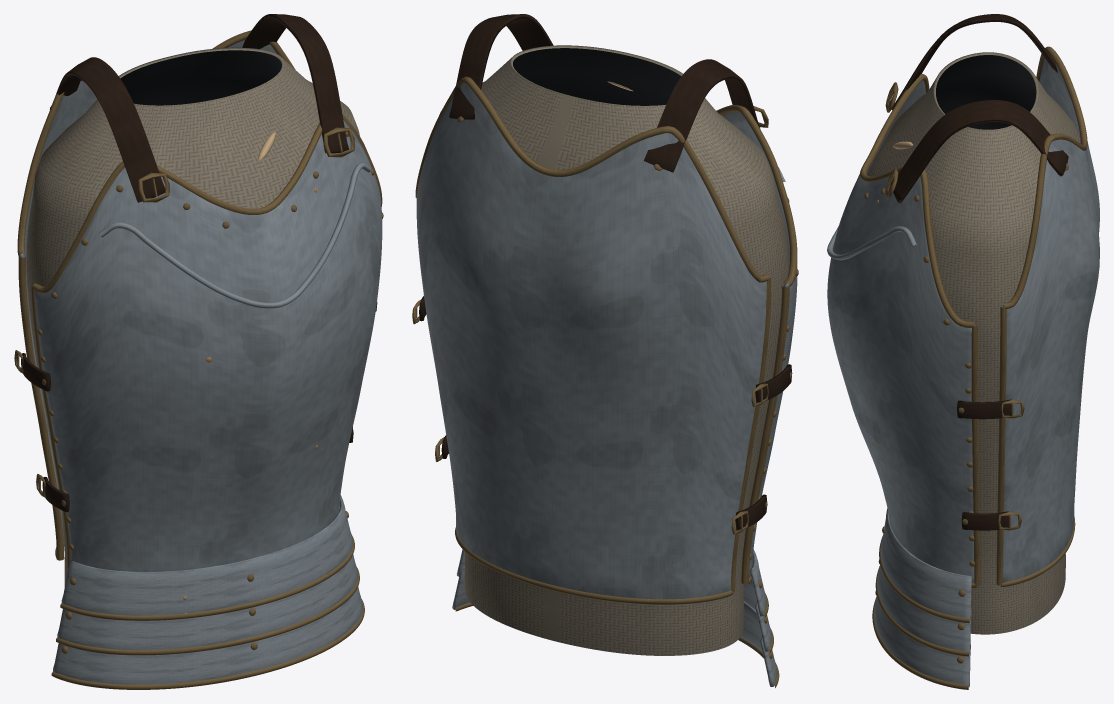
The picture shows the model from 3 angles, left to right: view 1: azimuth 30°, elevation 25°; view 2: azimuth 150°, elevation 25°; view 3: azimuth 270°, elevation 25°; orthographic projection. The views are drawn at different scales.
Parts seen in each view (by area): view 1: hammered plate, quilted linen lining, aged alloy edge, oiled strap leather, recess and lining; view 2: hammered plate, quilted linen lining, aged alloy edge, oiled strap leather, recess and lining; view 3: hammered plate, quilted linen lining, aged alloy edge, oiled strap leather, recess and lining.
Boxes of the visible parts, x1,y1,x2,y2 form: hammered plate: (19,39,382,684); quilted linen lining: (26,47,359,586); aged alloy edge: (14,30,383,689); oiled strap leather: (21,14,377,512); recess and lining: (120,50,281,105); hammered plate: (416,83,797,686); quilted linen lining: (439,45,788,655); aged alloy edge: (412,76,798,687); oiled strap leather: (419,14,792,529); recess and lining: (513,48,681,105); hammered plate: (827,58,1099,687); quilted linen lining: (867,52,1080,634); aged alloy edge: (860,46,1087,689); oiled strap leather: (891,14,1068,530); recess and lining: (936,55,1036,129).
Bounding box in the file's own units: 0.3926 × 0.6466 × 0.2854.
7 materials, 4 textured.
